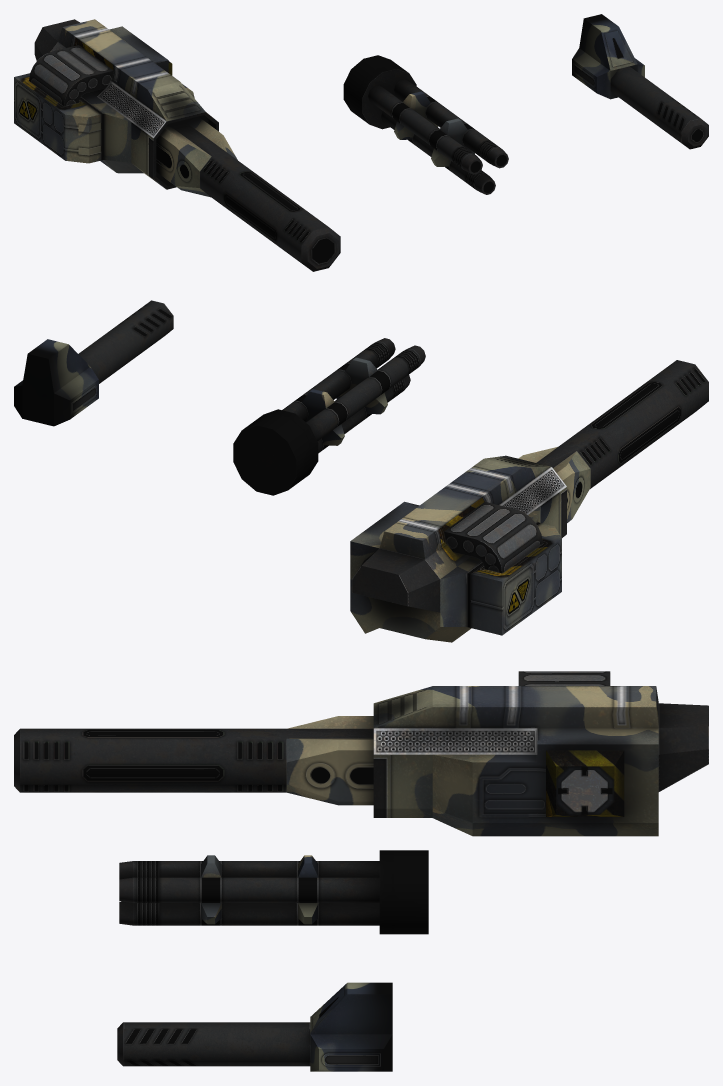
The model's file is cannon.fbx.
3 renders of one model, top to bottom at view 1: azimuth 30°, elevation 25°; view 2: azimuth 150°, elevation 25°; view 3: azimuth 270°, elevation 25°, orthographic. The views are drawn at different scales.
Visible parts, largest first — view 1: polySurface18, polySurface17, polySurface21, polySurface19, polySurface20; view 2: polySurface18, polySurface17, polySurface21, polySurface19, polySurface20; view 3: polySurface18, polySurface17, polySurface19, polySurface21, polySurface20.
Part boxes in pixels (x1=…): polySurface18: x1=14, y1=19, x2=218, y2=189; polySurface17: x1=156, y1=116, x2=340, y2=271; polySurface21: x1=572, y1=14, x2=708, y2=149; polySurface19: x1=368, y1=79, x2=508, y2=194; polySurface20: x1=343, y1=55, x2=416, y2=129; polySurface18: x1=350, y1=455, x2=566, y2=642; polySurface17: x1=518, y1=360, x2=708, y2=522; polySurface21: x1=14, y1=300, x2=173, y2=426; polySurface19: x1=282, y1=338, x2=425, y2=453; polySurface20: x1=233, y1=409, x2=318, y2=495; polySurface18: x1=373, y1=671, x2=708, y2=836; polySurface17: x1=14, y1=716, x2=373, y2=805; polySurface19: x1=119, y1=855, x2=379, y2=925; polySurface21: x1=117, y1=982, x2=392, y2=1071; polySurface20: x1=379, y1=850, x2=428, y2=934.
Size of the model in its own units: 23.54 by 3.99 by 21.07.
Materials: 1 (1 with a texture image).
